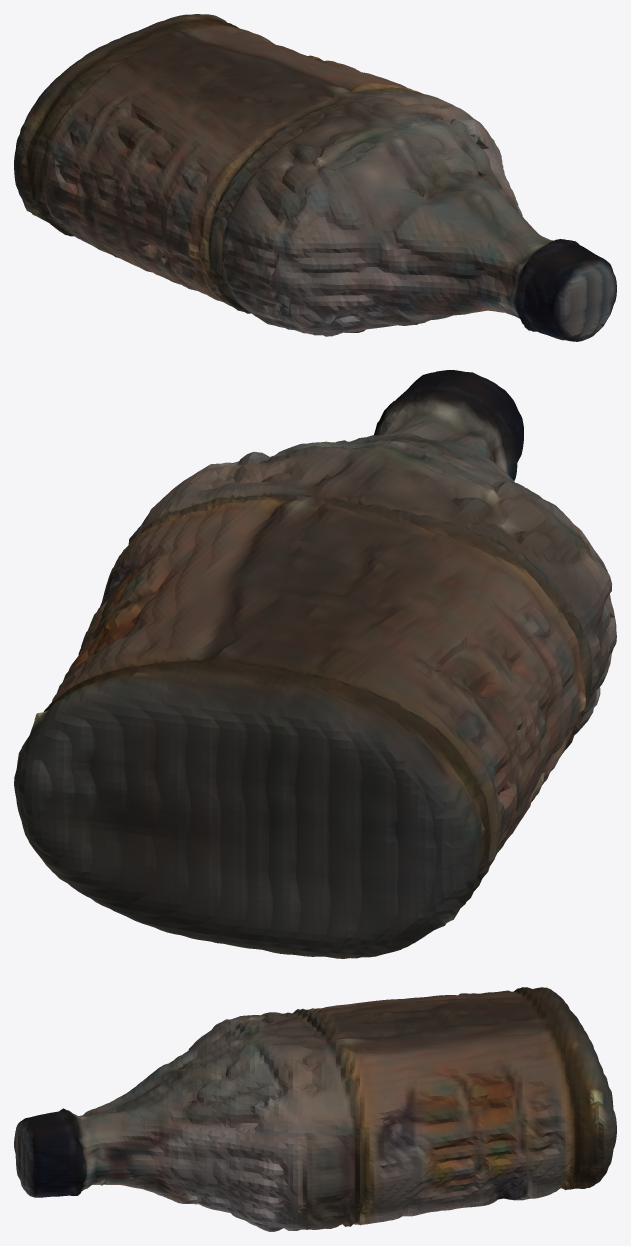
The picture shows the model from 3 angles, top to bottom: view 1: azimuth 30°, elevation 25°; view 2: azimuth 150°, elevation 25°; view 3: azimuth 270°, elevation 25°; orthographic projection. The views are drawn at different scales.
Size of the model in its own units: 0.5223 by 0.2794 by 0.8605.
